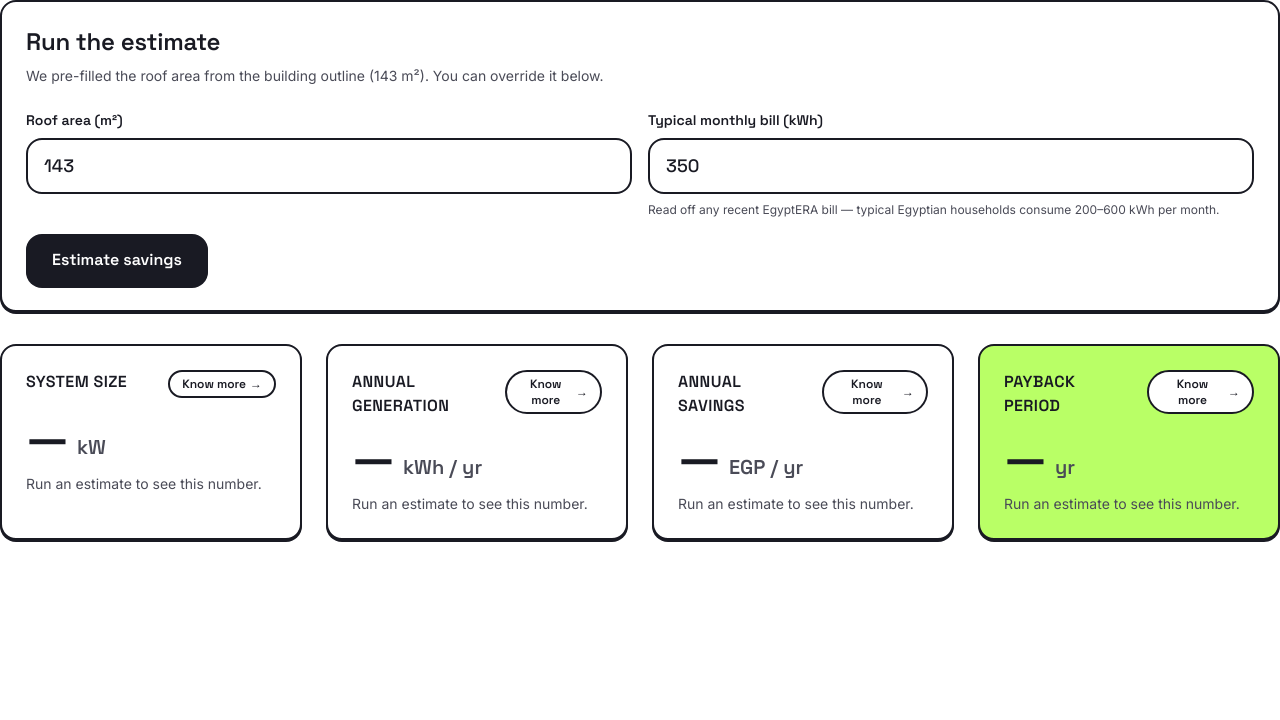
Test: Dashboard › surfaces an inline error when the chain aborts
The width and height of the screenshot is (1280, 720).
Click the button "Estimate savings" at {"x": 117, "y": 260}, box 26,234 -> 208,286
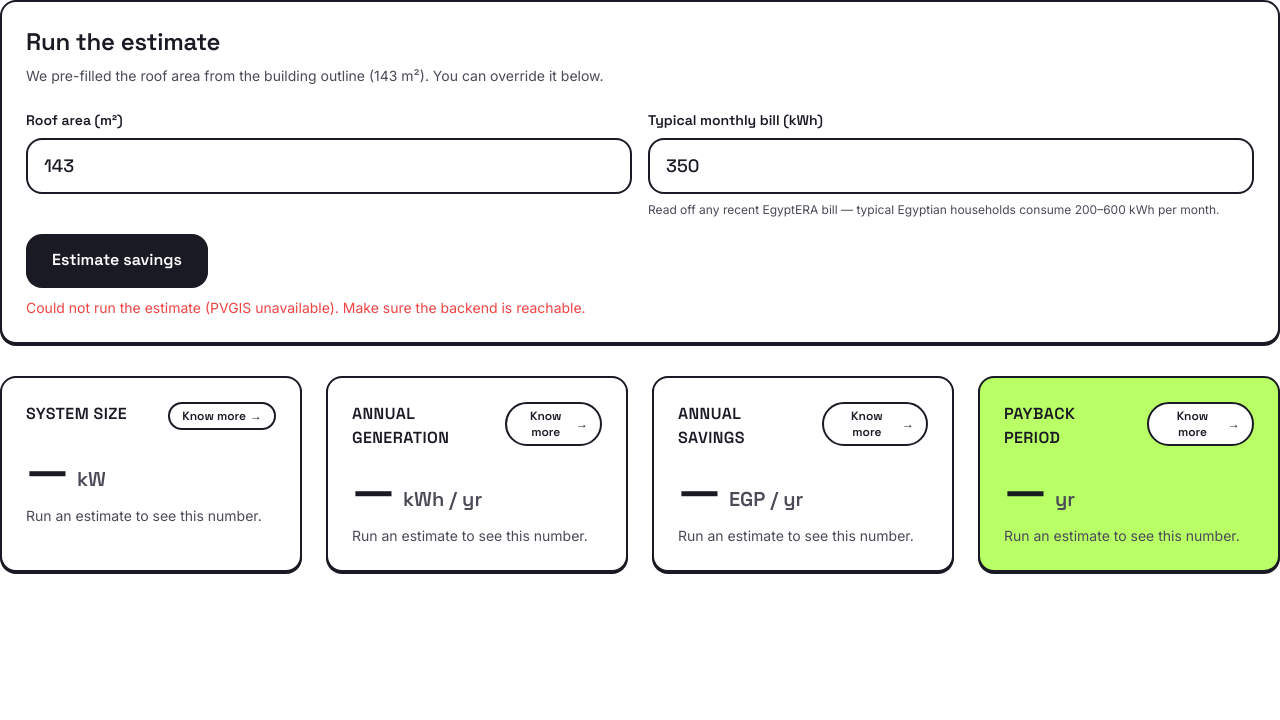
Expected: the text "—" is shown 4 times, 26,446 -> 69,494; 352,466 -> 395,514; 678,466 -> 721,514; 1004,466 -> 1047,514
Expected: the message shows "PVGIS unavailable", 210,299 -> 330,316
